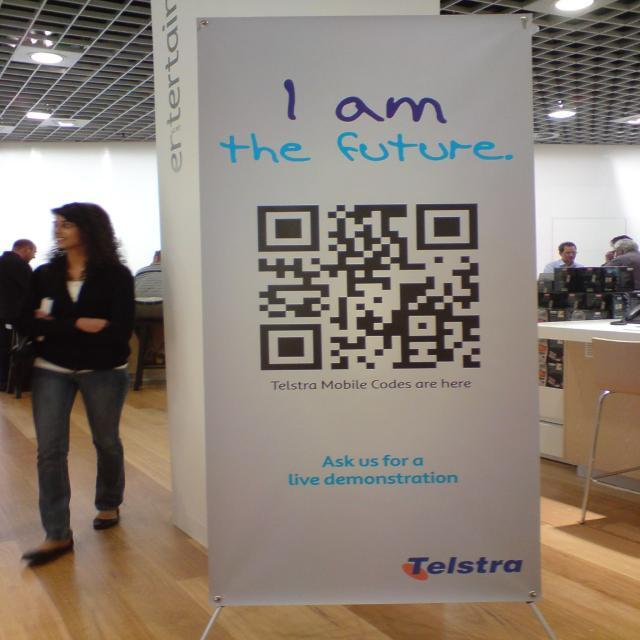qr-code: (257, 204, 481, 370)
